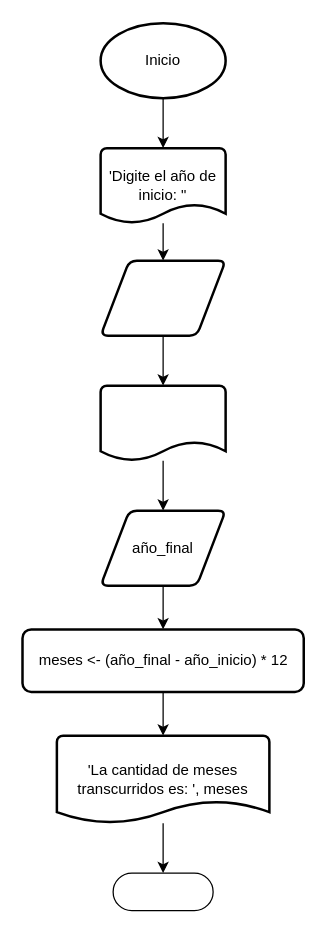
The diagram is 326 pixels wide and 933 high, and some of its shapes have lost their labels. The shapes that lost their labels are listed below. From the top down, each one's box as (x1, y1, x2, y2) in pixels, then its label:
(99, 259, 226, 336): año_inicio
(99, 384, 226, 461): 'Digite el año final: '
(112, 872, 213, 911): Fin
